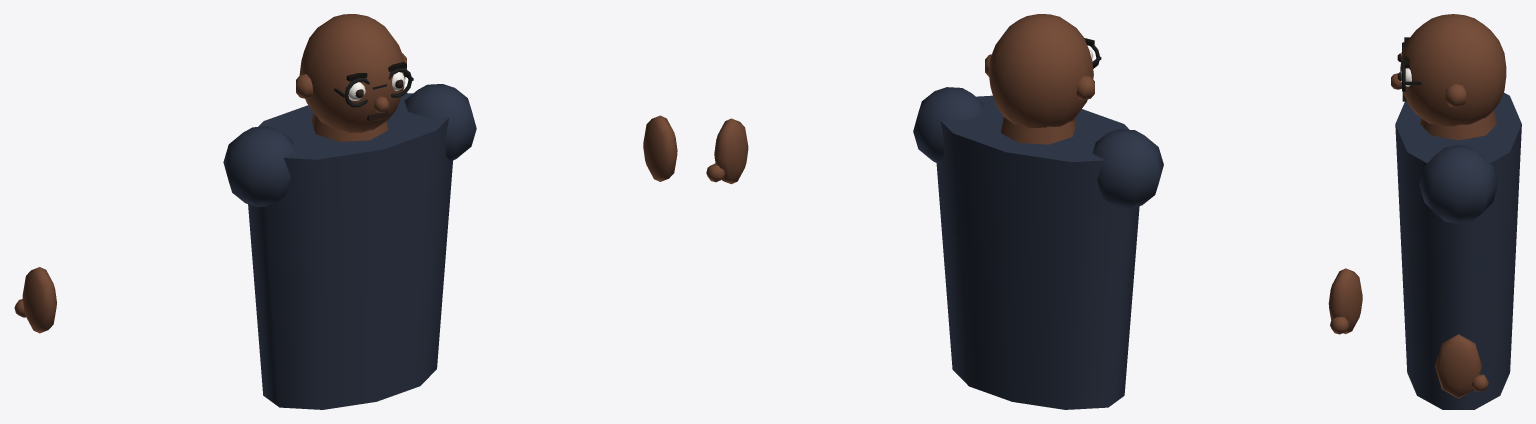
Rendered from avatar-night.glb.
3 renders of one model, left to right at view 1: azimuth 30°, elevation 25°; view 2: azimuth 150°, elevation 25°; view 3: azimuth 270°, elevation 25°, orthographic. The views are drawn at different scales.
Parts seen in each view (by area): view 1: Torso, Skull, ShoulderR, ShoulderL, HandL, HandR, Collar; view 2: Torso, Skull, ShoulderR, ShoulderL, HandL, HandR, Collar; view 3: Torso, Skull, ShoulderL, HandL, Collar, EarL, HandL_Thumb, Nose.
Part boxes in pixels (x1,y1,x2,y2): Torso: (248,93,452,409); Skull: (299,14,405,132); ShoulderR: (223,126,295,207); ShoulderL: (404,84,476,160); HandL: (643,115,677,181); HandR: (22,267,56,333); Collar: (311,113,388,141); Torso: (936,95,1139,409); Skull: (988,14,1093,128); ShoulderR: (1092,129,1163,209); ShoulderL: (913,87,984,163); HandL: (714,118,748,184); HandR: (1328,268,1362,334); Collar: (1000,117,1076,144); Torso: (1395,92,1521,409); Skull: (1400,14,1506,126); ShoulderL: (1419,145,1497,223); HandL: (1435,334,1482,398); Collar: (1420,110,1496,140); EarL: (1445,84,1466,107); HandL_Thumb: (1471,374,1488,391); Nose: (1391,73,1401,89).
Size of the model in its own units: 1.37 by 0.7424 by 0.2482.
